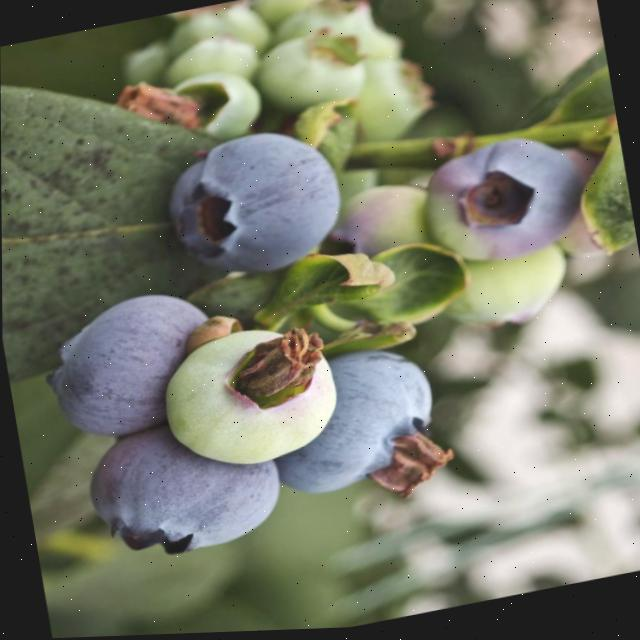RipeBlueBerry: (75, 406, 291, 572), (157, 117, 355, 292), (29, 284, 225, 449), (263, 340, 450, 507)
Semi-RipeBlueBerry: (416, 132, 587, 274)
UnripeBlueBerry: (151, 313, 349, 483), (432, 238, 574, 339), (246, 26, 367, 118)
